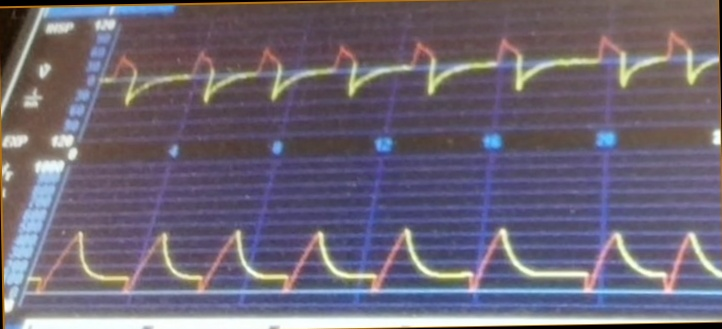Flow: (111, 26, 719, 125)
Leakage Volume: (49, 195, 721, 314)
